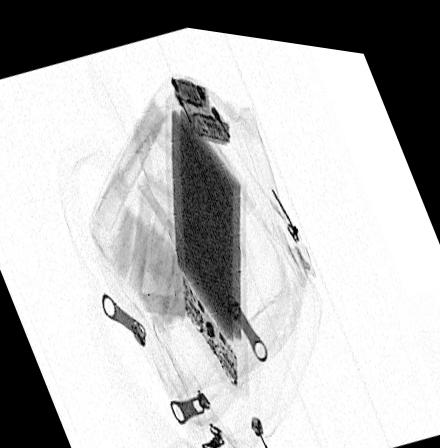Powerbank: (170, 90, 249, 390)
